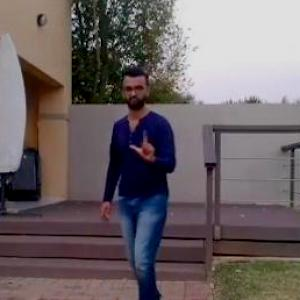land_hand: (122, 123, 161, 169)
